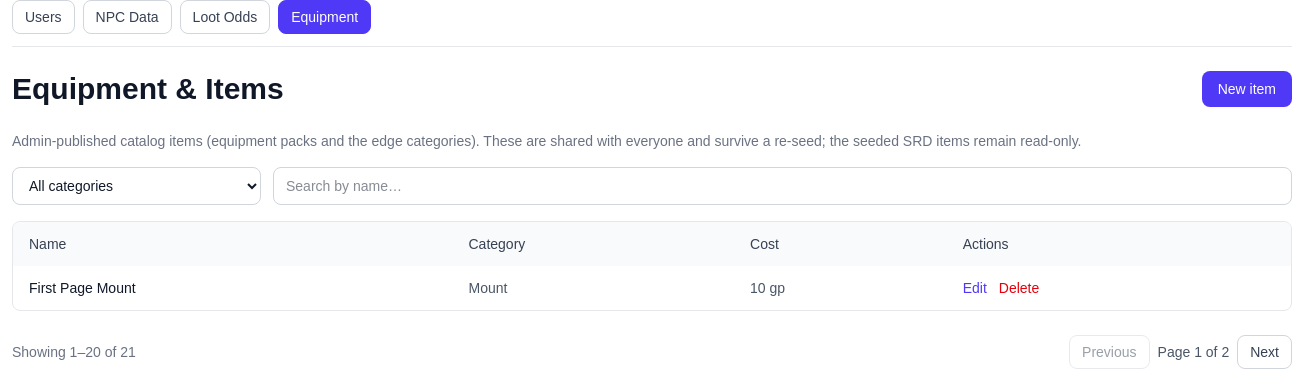
it: AdminEquipmentPage › typing in search resets to page 1
Expected: the text "First Page Mount" is shown, [13,266,452,310]
Click the button "Next" at [1265, 352], box [1237,335,1292,369]
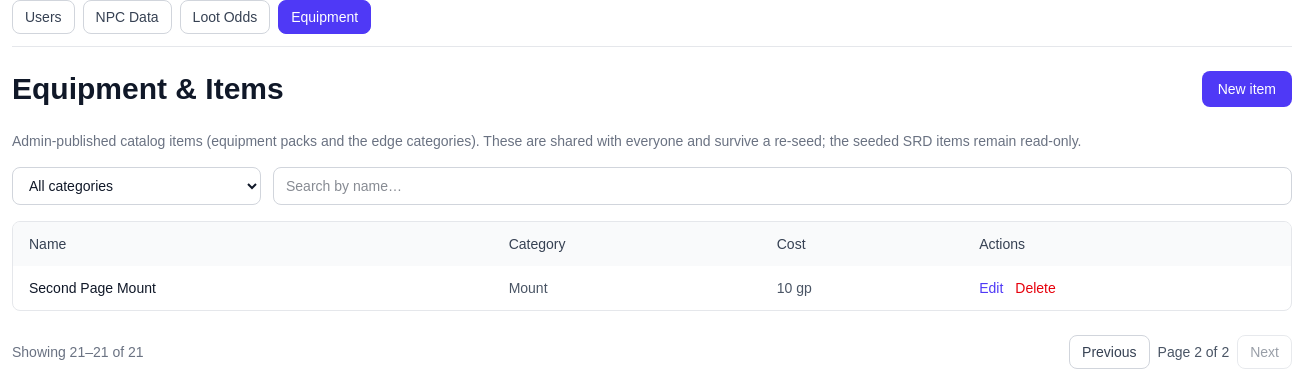
Now the text "Second Page Mount" is shown, box [13,266,493,310]
Type "mount" into the search field named "search items" at [782, 186], box [273,167,1292,205]
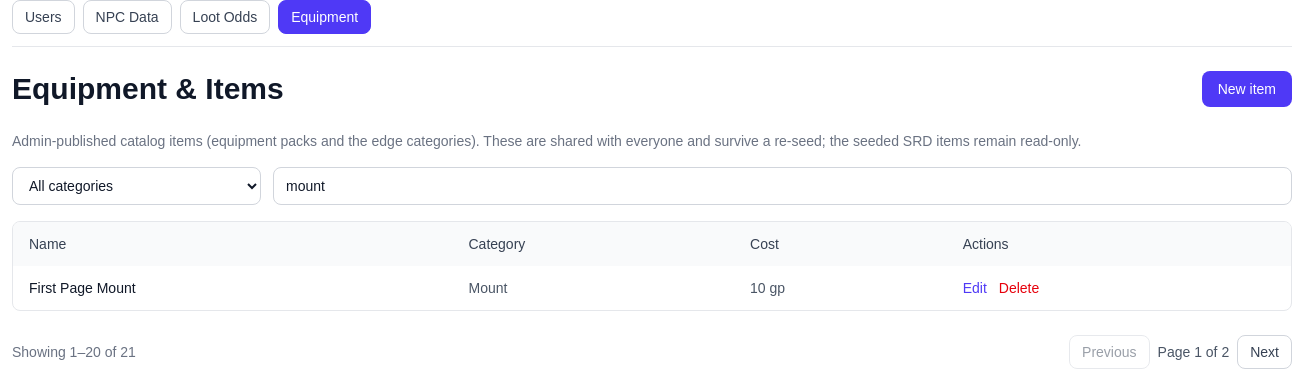
Now the text "Page 1 of 2" is shown, box [1158,342,1229,362]
